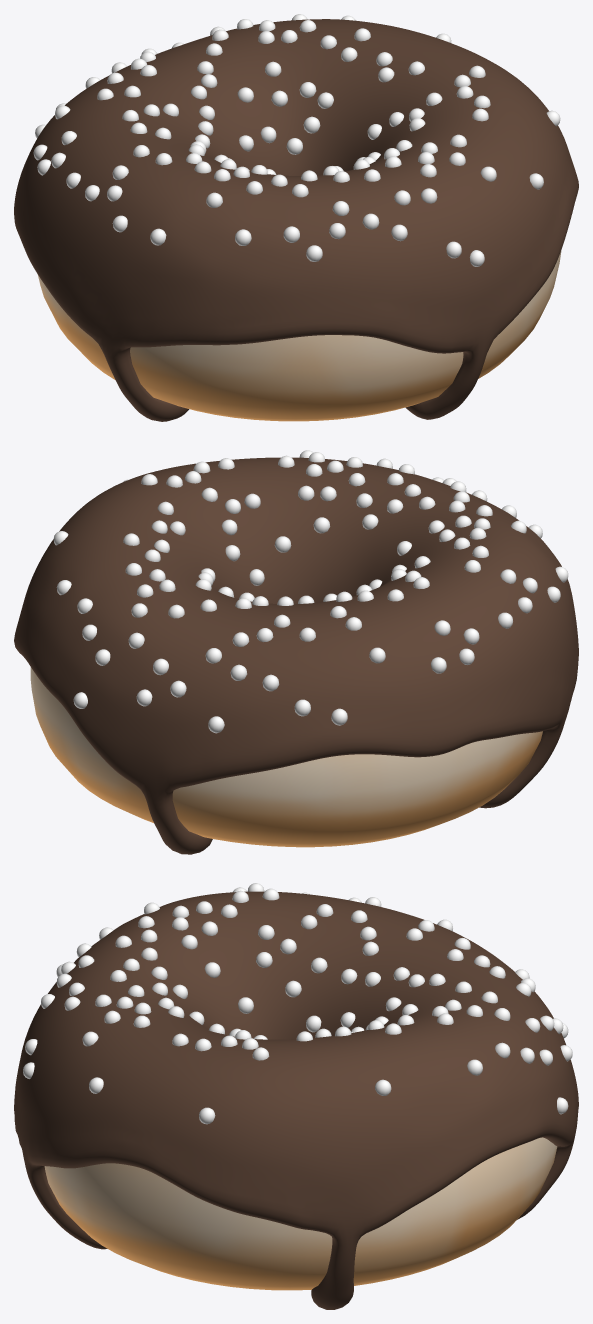
File: donut.glb
The picture shows the model from 3 angles, top to bottom: view 1: azimuth 30°, elevation 25°; view 2: azimuth 150°, elevation 25°; view 3: azimuth 270°, elevation 25°; orthographic projection.
Visible parts, largest first — view 1: sphere sprinkle icing.002, sphere sprinkle donut.002; view 2: sphere sprinkle icing.002, sphere sprinkle donut.002; view 3: sphere sprinkle icing.002, sphere sprinkle donut.002.
Part boxes in pixels (<box>): sphere sprinkle icing.002: <box>14,19,578,421</box>; sphere sprinkle donut.002: <box>37,250,561,421</box>; sphere sprinkle icing.002: <box>14,457,578,854</box>; sphere sprinkle donut.002: <box>30,667,542,847</box>; sphere sprinkle icing.002: <box>14,891,578,1309</box>; sphere sprinkle donut.002: <box>44,1137,557,1290</box>.
Size of the model in its own units: 12.82 by 6.59 by 12.78.
Materials: 3 (1 with a texture image).
